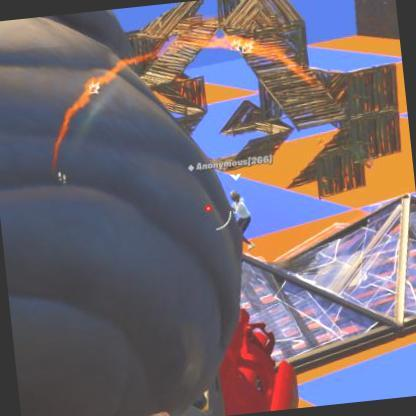person: (227, 190, 256, 256)
